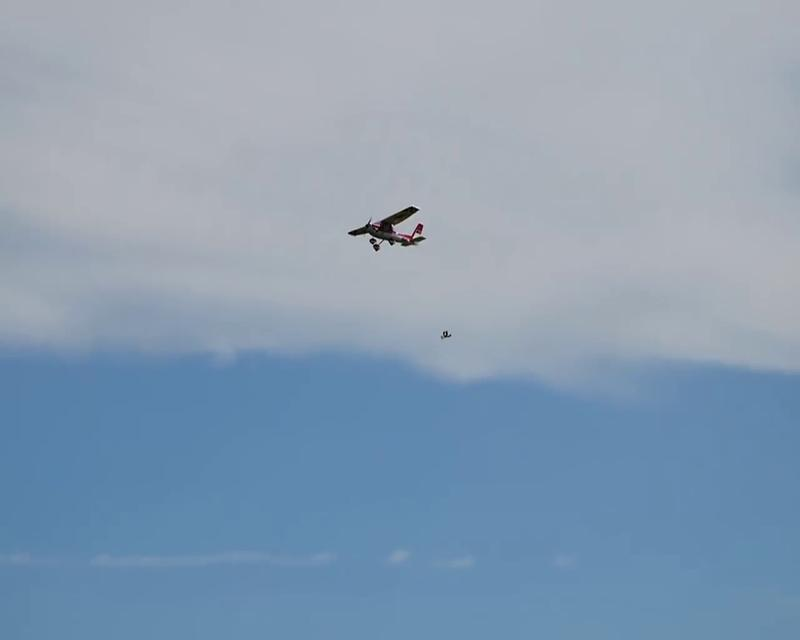UAV: (346, 204, 426, 252)
